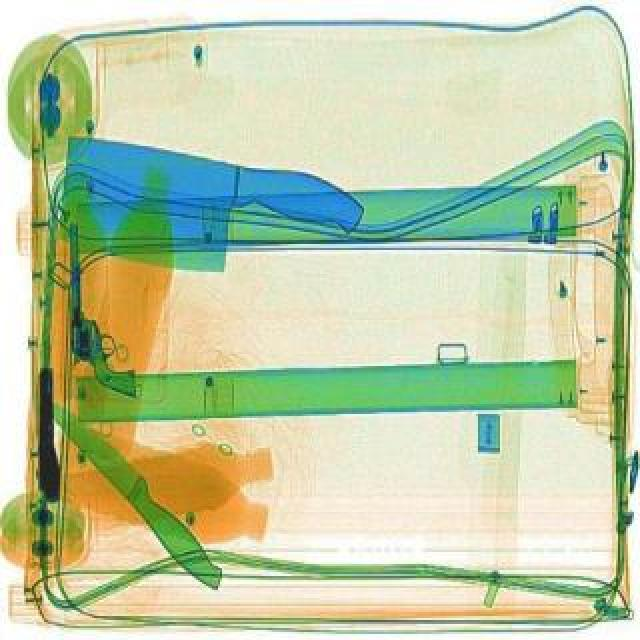gun: (46, 218, 162, 392), (30, 366, 64, 502)
knife: (34, 124, 370, 302), (30, 380, 238, 600)
